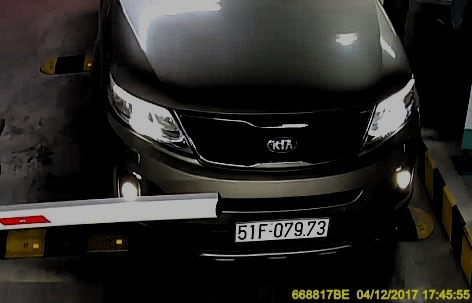plate: (233, 213, 331, 242)
